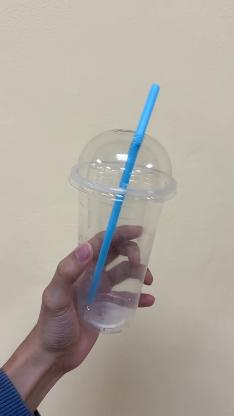Plastic Cup: (69, 126, 181, 330)
